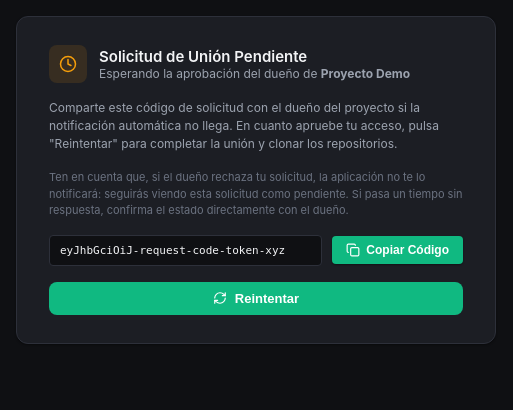
Test: JoinRequestPending › no deja el mensaje de estado previo visible al reintentar de nuevo
This screenshot has width=513, height=410.
Click the button "Reintentar": (256, 298) [49, 282, 463, 314]
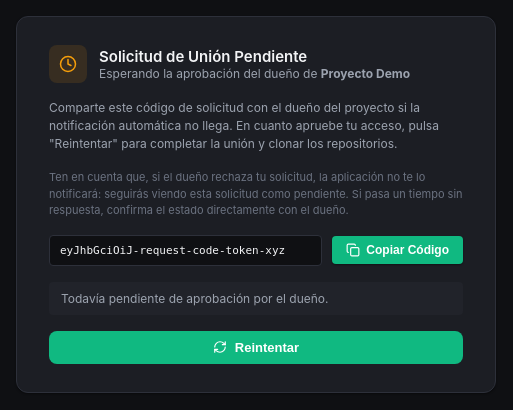
expect the text "Todavía pendiente de aprobación por el dueño." is shown: met, box [49, 282, 463, 315]
Click the button "Reintentar": (256, 347) [49, 331, 463, 364]
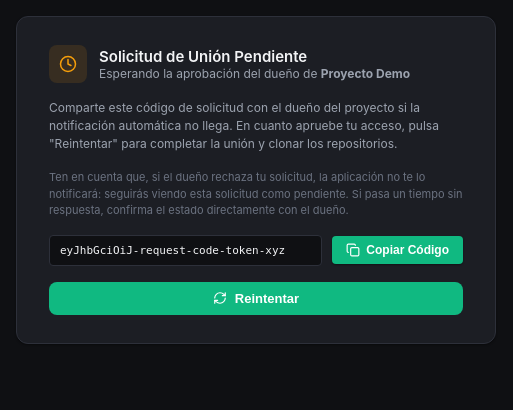
expect the text with test id "join-request-status-message" is gone: met
